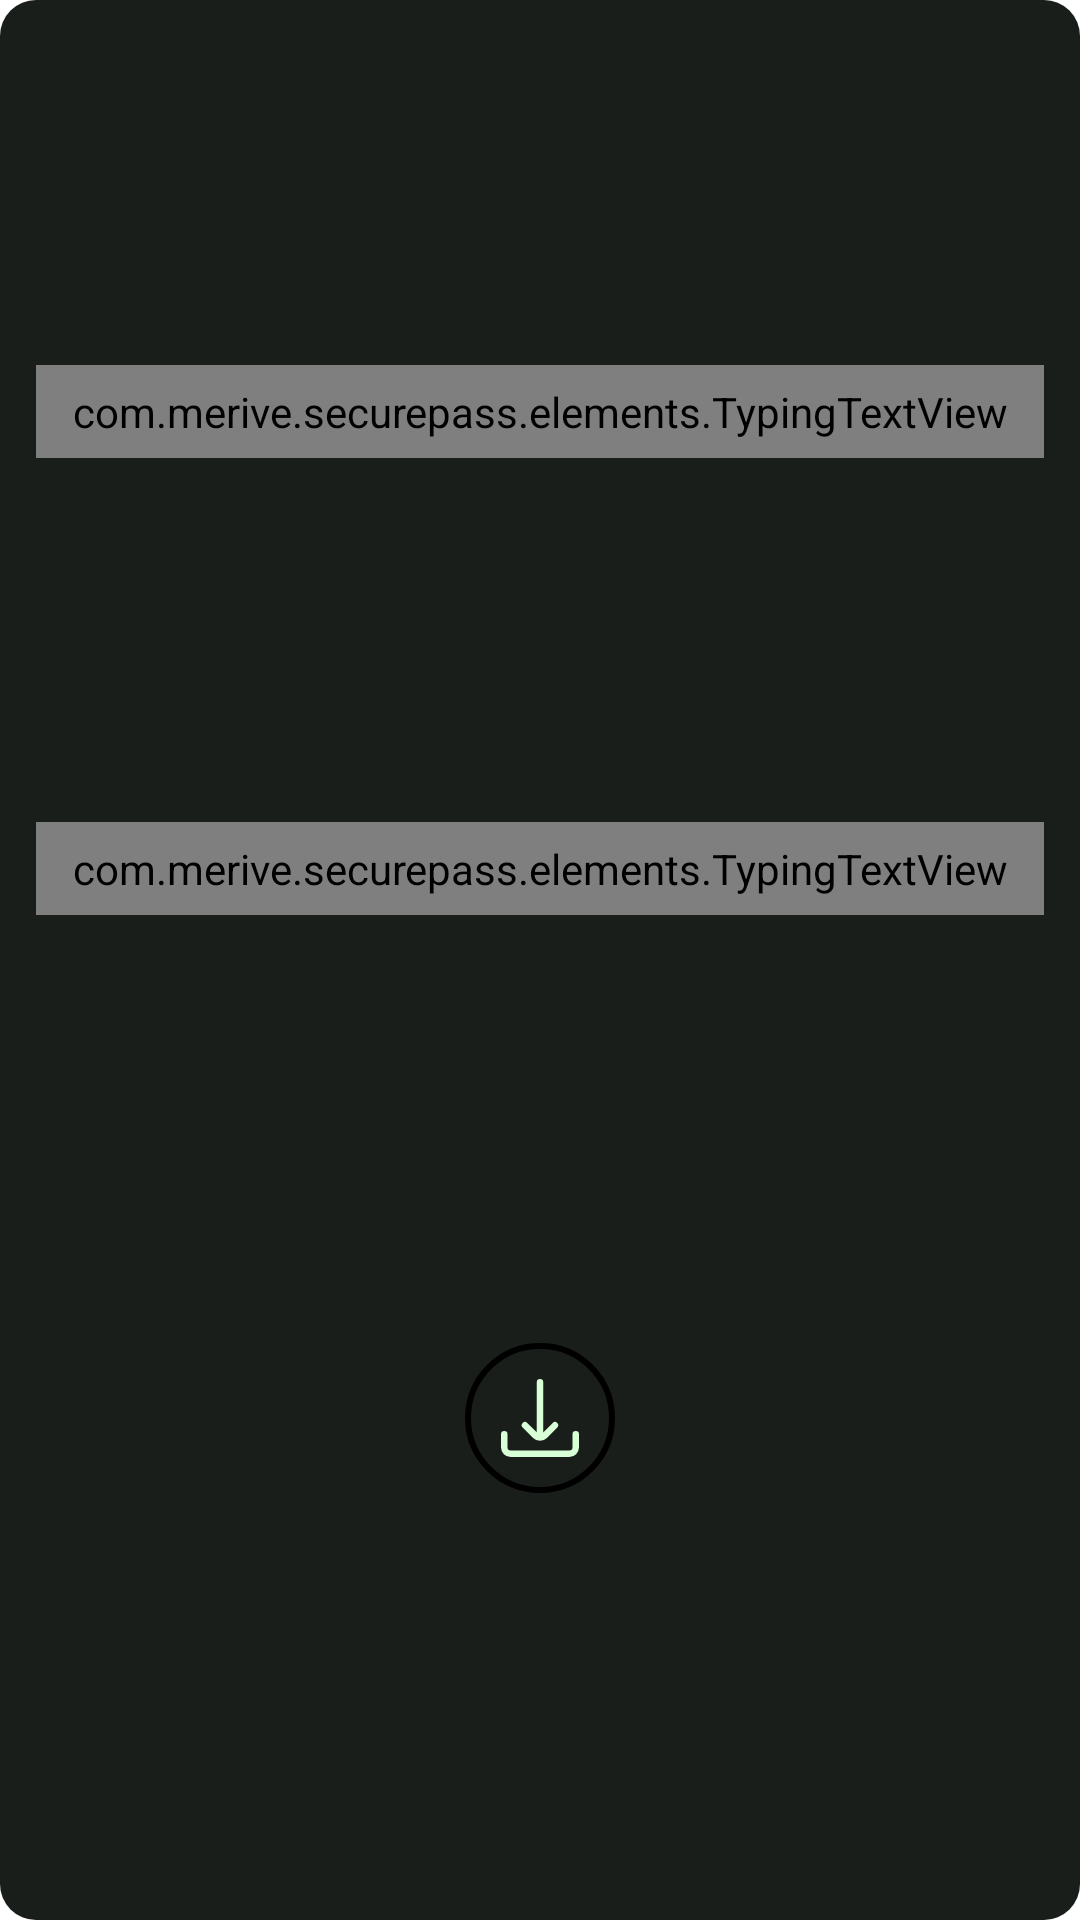

Where icons sit on this 1080w x 1920h app screen, as (x1, y1, x2, y2):
download: (465, 1343, 615, 1493)
